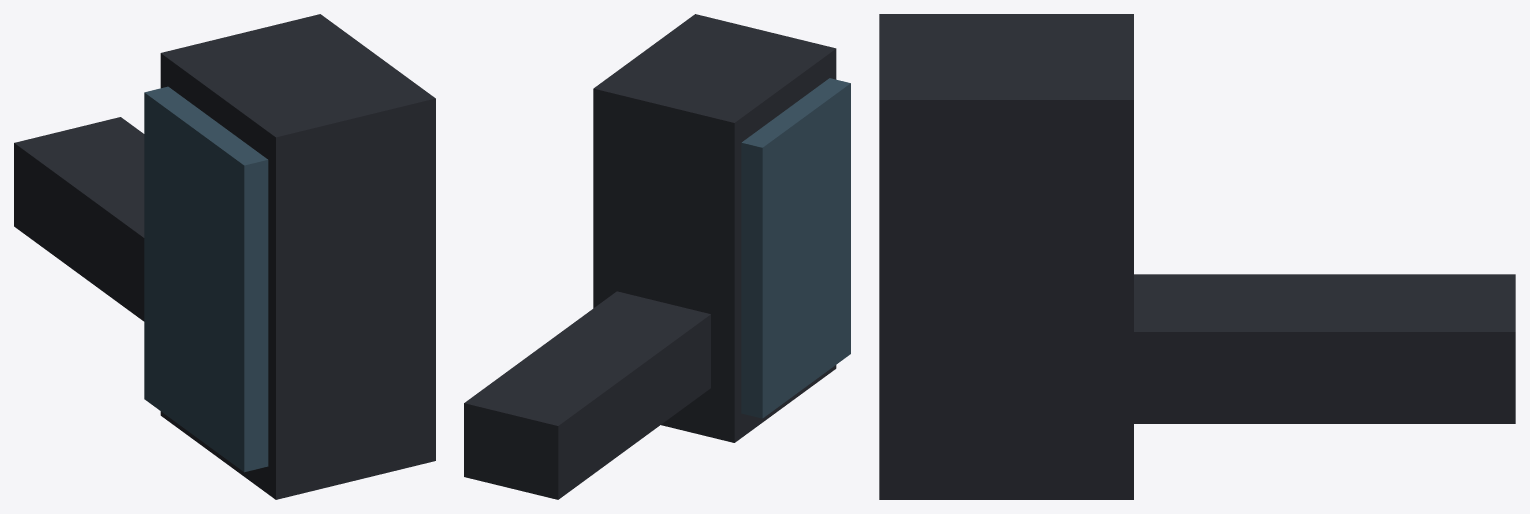
Rendered from mirror_r.obj.
The picture shows the model from 3 angles, left to right: view 1: azimuth 30°, elevation 25°; view 2: azimuth 150°, elevation 25°; view 3: azimuth 270°, elevation 25°; orthographic projection. The views are drawn at different scales.
Visible parts, largest first — view 1: Cube; view 2: Cube; view 3: Cube.
Boxes of the visible parts, x1,y1,x2,y2 form: Cube: (14, 14, 435, 499); Cube: (464, 14, 850, 499); Cube: (879, 14, 1515, 499).
Size of the model in its own units: 0.069 by 0.13 by 0.1875.
